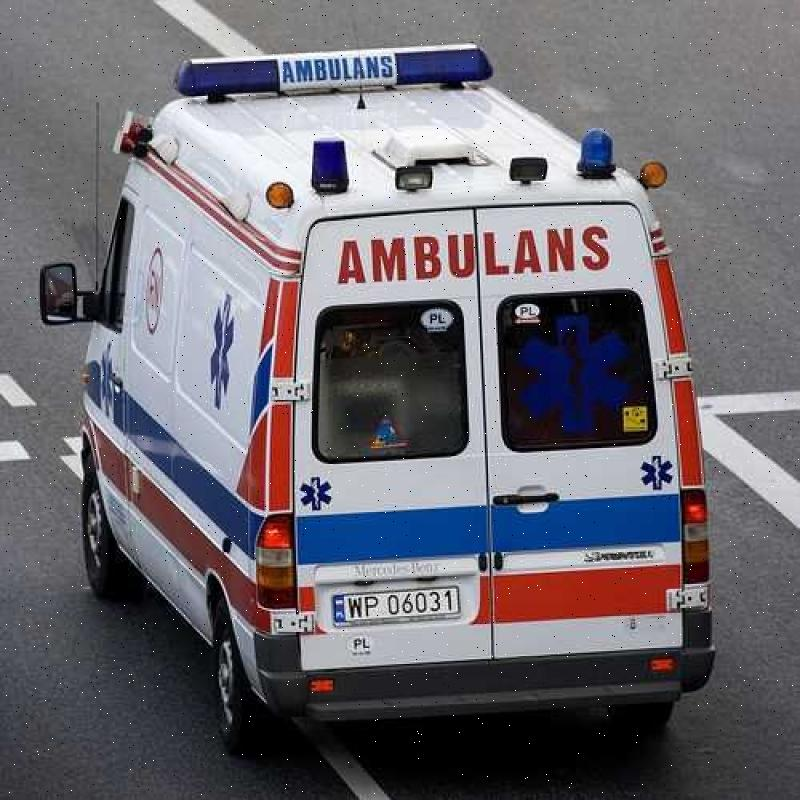AmbulanceSiren: (294, 125, 368, 216), (570, 108, 638, 191)
